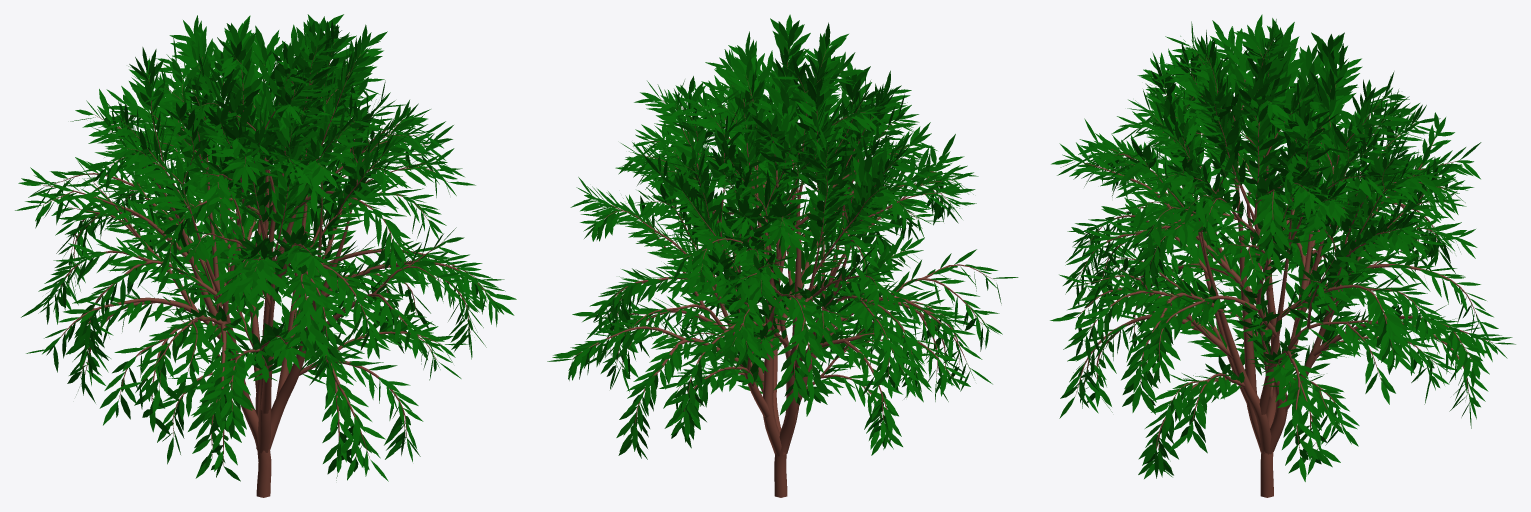
Rendered from tree_1.fbx.
The picture shows the model from 3 angles, left to right: view 1: azimuth 30°, elevation 25°; view 2: azimuth 150°, elevation 25°; view 3: azimuth 270°, elevation 25°; orthographic projection. The views are drawn at different scales.
Parts seen in each view (by area): view 1: leaves.001, tree.001; view 2: leaves.001, tree.001; view 3: leaves.001, tree.001.
Boxes of the visible parts, x1,y1,x2,y2 form: leaves.001: (15,14,516,481); tree.001: (42,42,493,497); leaves.001: (547,14,1018,459); tree.001: (573,49,992,497); leaves.001: (1050,14,1515,481); tree.001: (1075,40,1492,497).
Size of the model in its own units: 6.05 by 6.77 by 6.1.
